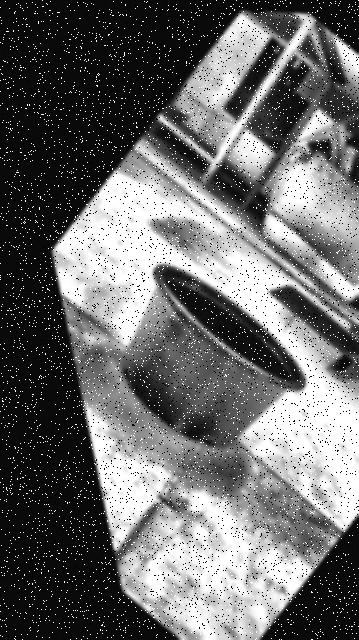pot: (120, 264, 305, 447)
